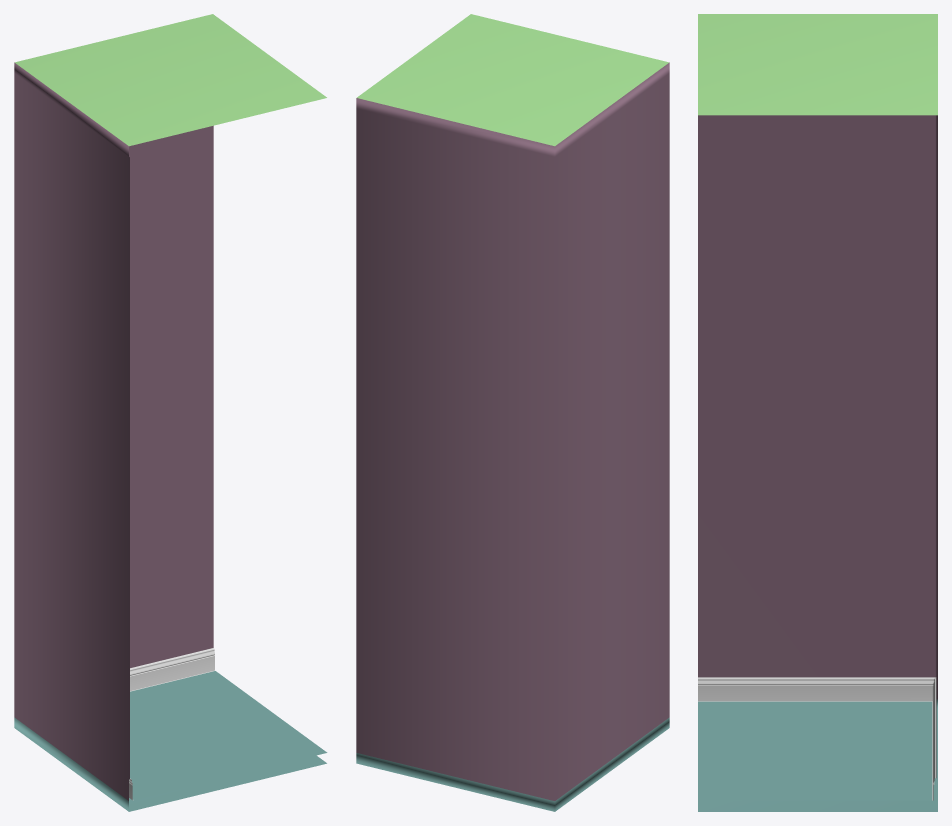
Rendered from Room_wall_1x1_corner_in.fbx.
The picture shows the model from 3 angles, left to right: view 1: azimuth 30°, elevation 25°; view 2: azimuth 150°, elevation 25°; view 3: azimuth 270°, elevation 25°; orthographic projection. The views are drawn at different scales.
Parts seen in each view (by area): view 1: Wall_1x1_corner_in; view 2: Wall_1x1_corner_in; view 3: Wall_1x1_corner_in.
Part boxes in pixels (x1,y1,x2,y2): Wall_1x1_corner_in: (14, 14, 327, 811); Wall_1x1_corner_in: (356, 14, 669, 811); Wall_1x1_corner_in: (698, 14, 937, 811).
Size of the model in its own units: 0.9675 by 3.1 by 0.9675.
